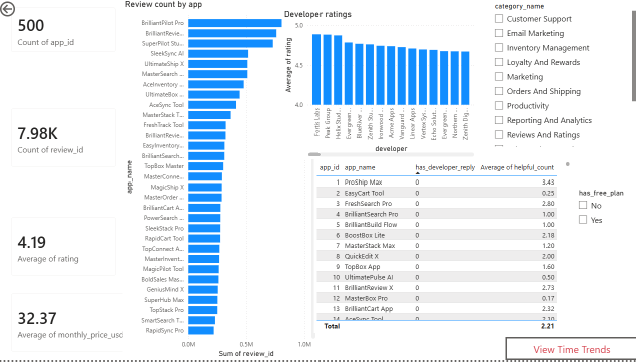

The dashboard page shown, as its layout file describes it:
{"tool":"powerbi","page":{"name":"Page 1","canvas":[1280,720],"ordinal":0},"visuals":[{"type":"cardVisual","fields":{"Data":["Count(apps.app_id)"]},"box":[10.2,0,243.5,123.7],"z":0},{"type":"cardVisual","fields":{"Data":["Count(reviews.review_id)"]},"box":[10,202,244,150],"z":1000},{"type":"cardVisual","fields":{"Data":["Avg(reviews.rating)"]},"box":[10,417,244,150],"z":2000},{"type":"cardVisual","fields":{"Data":["Avg(apps.monthly_price_usd)"]},"box":[10.2,569.9,276.7,150.4],"z":3000},{"type":"barChart","fields":{"Category":["apps.category_name"],"Y":["Avg(reviews.rating)"]},"box":[250,0,390,300],"z":4000},{"type":"clusteredColumnChart","fields":{"Category":["apps.developer"],"Y":["Avg(reviews.rating)"]},"box":[628,16,388,300],"z":5000},{"type":"slicer","fields":{"Values":["apps.has_free_plan"]},"box":[270,278,478,96],"z":6000},{"type":"slicer","fields":{"Values":["apps.category_name"]},"box":[980,0,300,300],"z":7000},{"type":"actionButton","box":[1014,674,266,46],"z":8000},{"type":"stackedAreaChart","fields":{"Y":["Avg(reviews.rating)"],"Category":["apps.launch_date.Variation.Date Hierarchy.Month"]},"box":[270,374,1010,254],"z":9000}]}

Visuals, with their boxes on the page's 1280x720 design canvas (x1, y1, x2, y2). These are canvas units, not pixel positions in the 636x362 screenshot, which may show the page scaled, cropped or inside an application window:
cardVisual - Count(apps.app_id): [left=10, top=0, right=254, bottom=124]
cardVisual - Count(reviews.review_id): [left=10, top=202, right=254, bottom=352]
cardVisual - Avg(reviews.rating): [left=10, top=417, right=254, bottom=567]
cardVisual - Avg(apps.monthly_price_usd): [left=10, top=570, right=287, bottom=720]
barChart - apps.category_name x Avg(reviews.rating): [left=250, top=0, right=640, bottom=300]
clusteredColumnChart - apps.developer x Avg(reviews.rating): [left=628, top=16, right=1016, bottom=316]
slicer - apps.has_free_plan: [left=270, top=278, right=748, bottom=374]
slicer - apps.category_name: [left=980, top=0, right=1280, bottom=300]
actionButton: [left=1014, top=674, right=1280, bottom=720]
stackedAreaChart - Avg(reviews.rating) x apps.launch_date.Variation.Date Hierarchy.Month: [left=270, top=374, right=1280, bottom=628]
